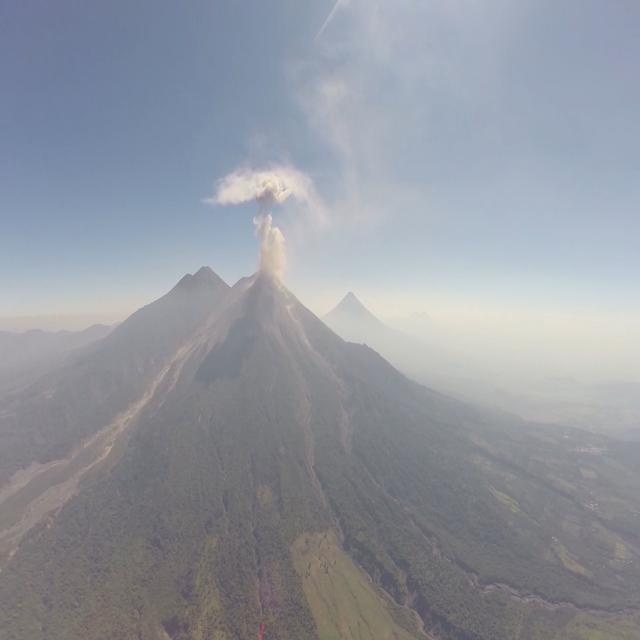Plume: (204, 158, 318, 210), (252, 207, 291, 280)
Summit: (246, 266, 290, 292)
